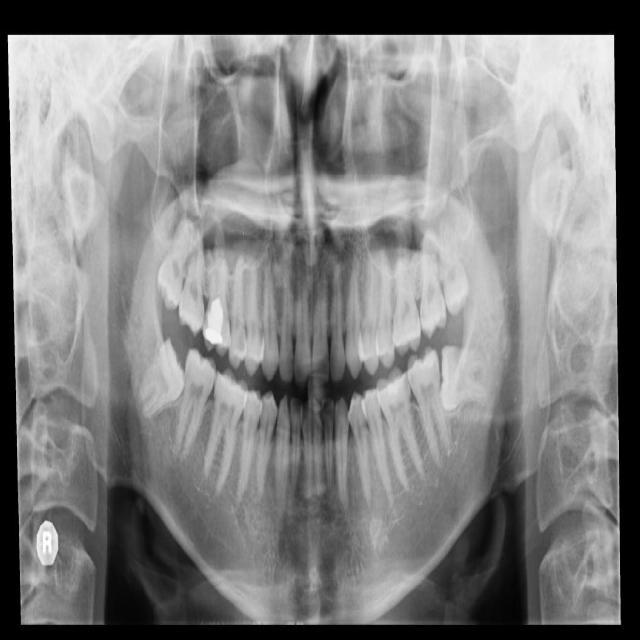3M ESPE Implant: (151, 211, 198, 313)
52: (201, 301, 233, 359), (402, 369, 411, 392), (202, 308, 209, 331)
73: (592, 582, 600, 582)
BioHorizons Implant: (419, 228, 451, 339)
BioLife Implant: (436, 214, 472, 319)
Biomet 3i Implant: (439, 345, 488, 413)
Blue Sky Bio Implant: (403, 344, 453, 469)
Caries: (174, 228, 218, 339)
Implant: (172, 347, 219, 466)
Keystone Dental Implant: (126, 335, 203, 429)
